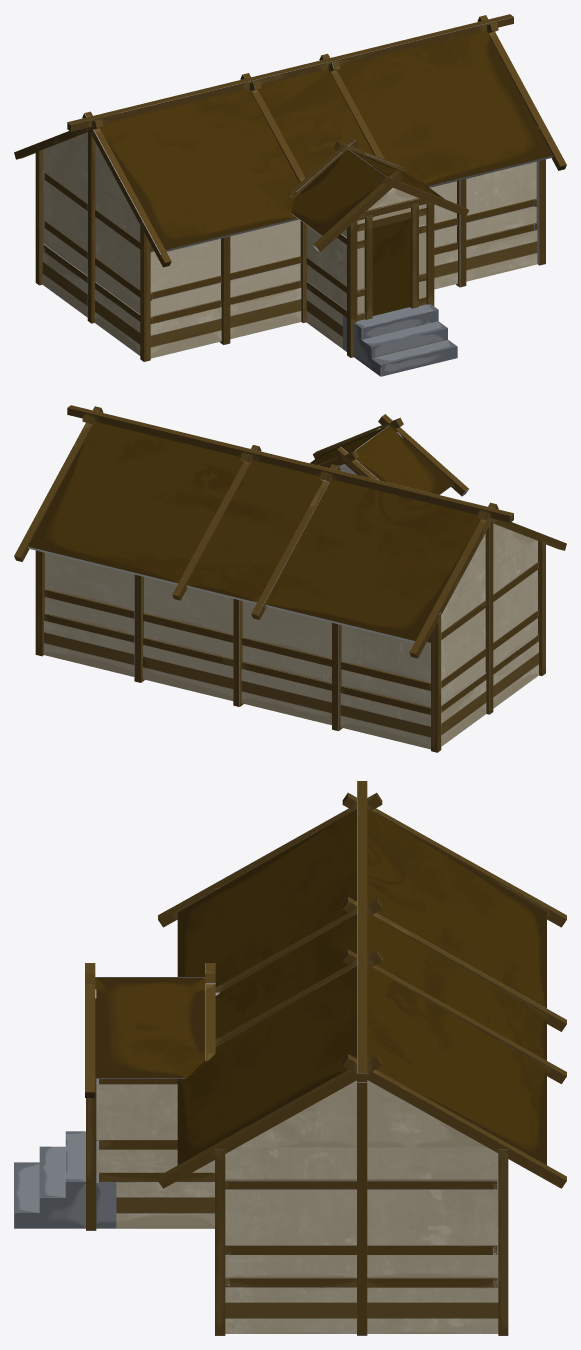
Rendered from CasaMediaCerto.fbx.
3 renders of one model, top to bottom at view 1: azimuth 30°, elevation 25°; view 2: azimuth 150°, elevation 25°; view 3: azimuth 270°, elevation 25°, orthographic. The views are drawn at different scales.
Visible parts, largest first — view 1: casamedia_low; view 2: casamedia_low; view 3: casamedia_low.
Boxes of the visible parts, box(x1,y1,x2,y2) form: casamedia_low: box(14, 14, 566, 376); casamedia_low: box(14, 405, 566, 752); casamedia_low: box(14, 781, 566, 1335).
Size of the model in its own units: 1345 by 603 by 1074.
